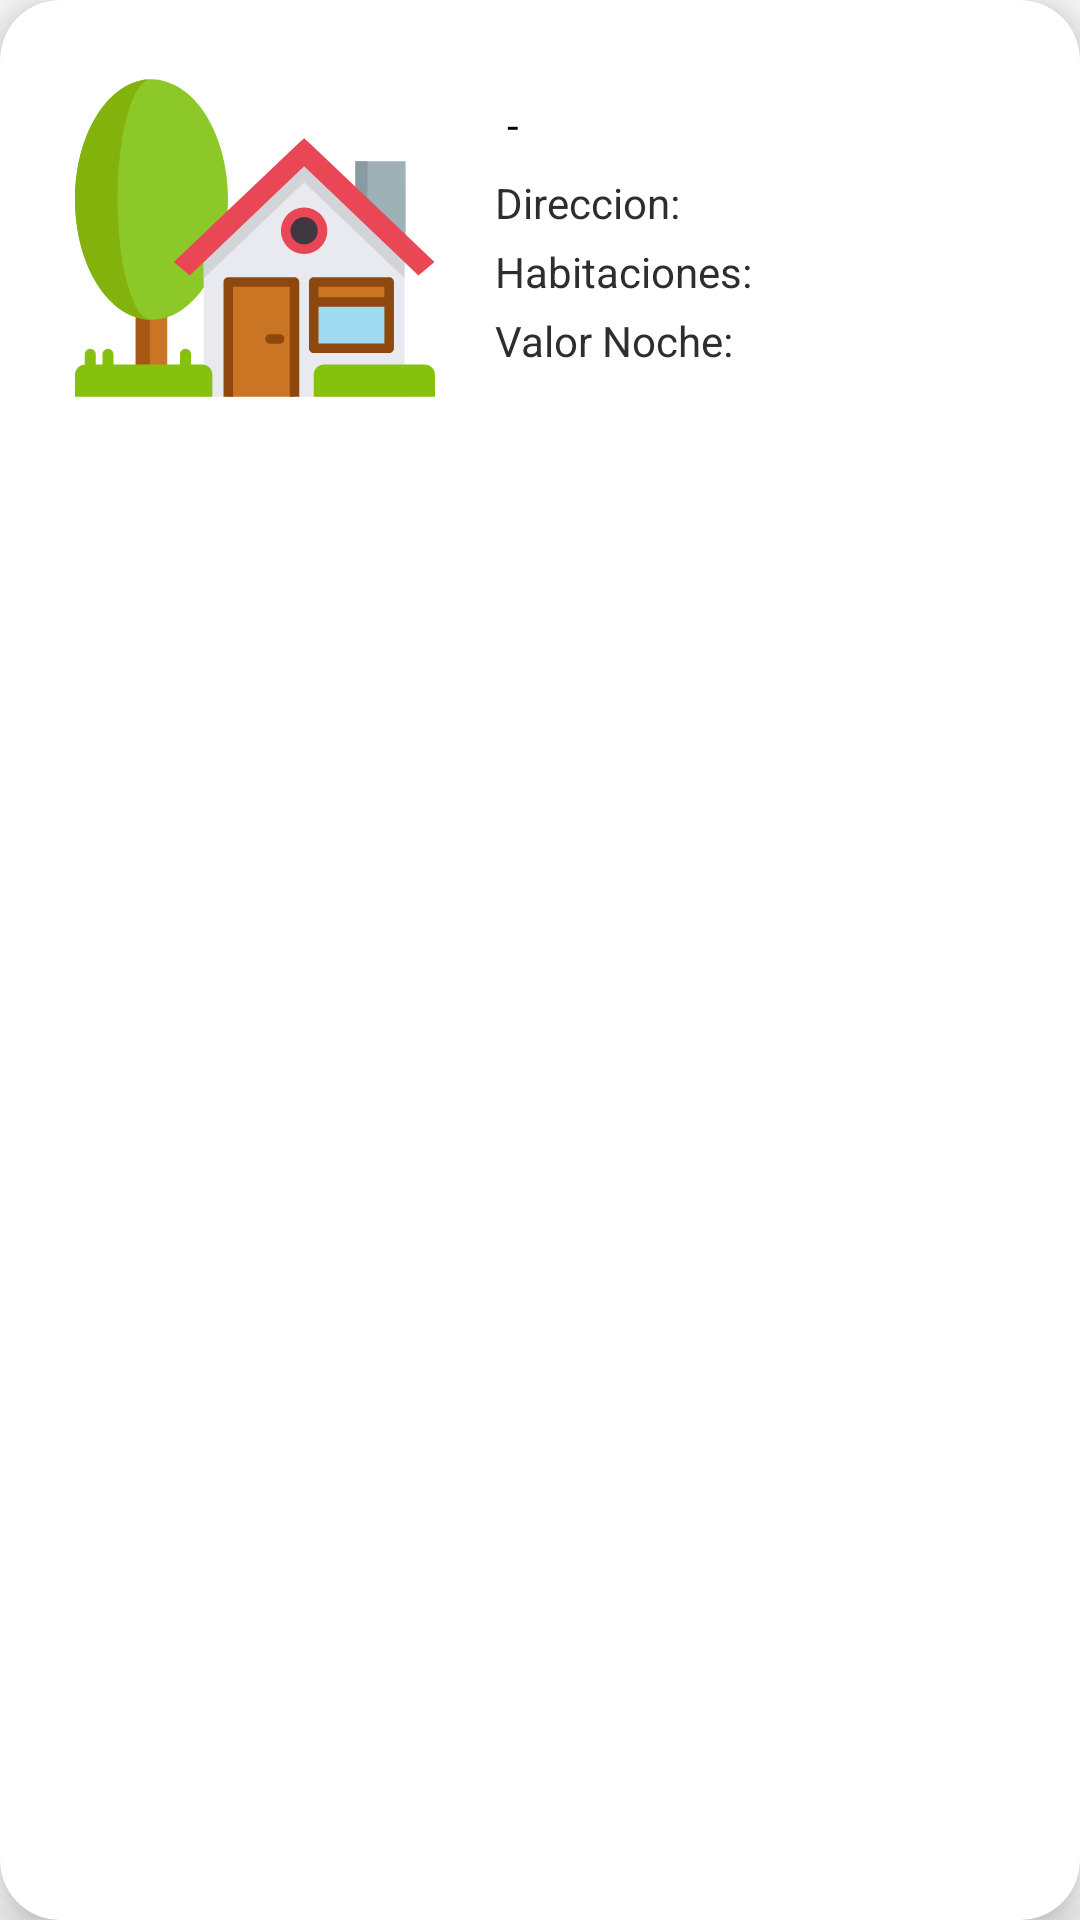

Where icons sit on this 1080×1920 app screen, as (x1, y1, x2, y2):
house: (75, 79, 435, 397)
